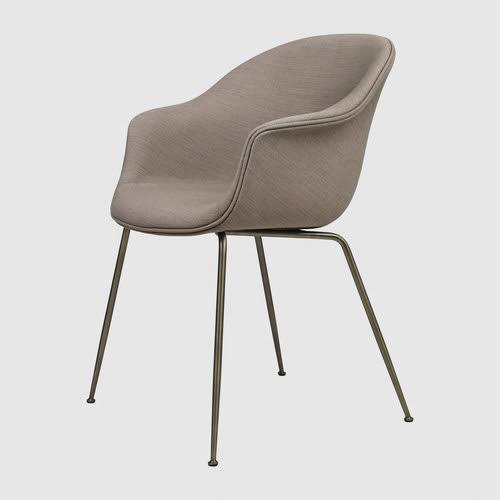chair: (81, 29, 432, 473)
